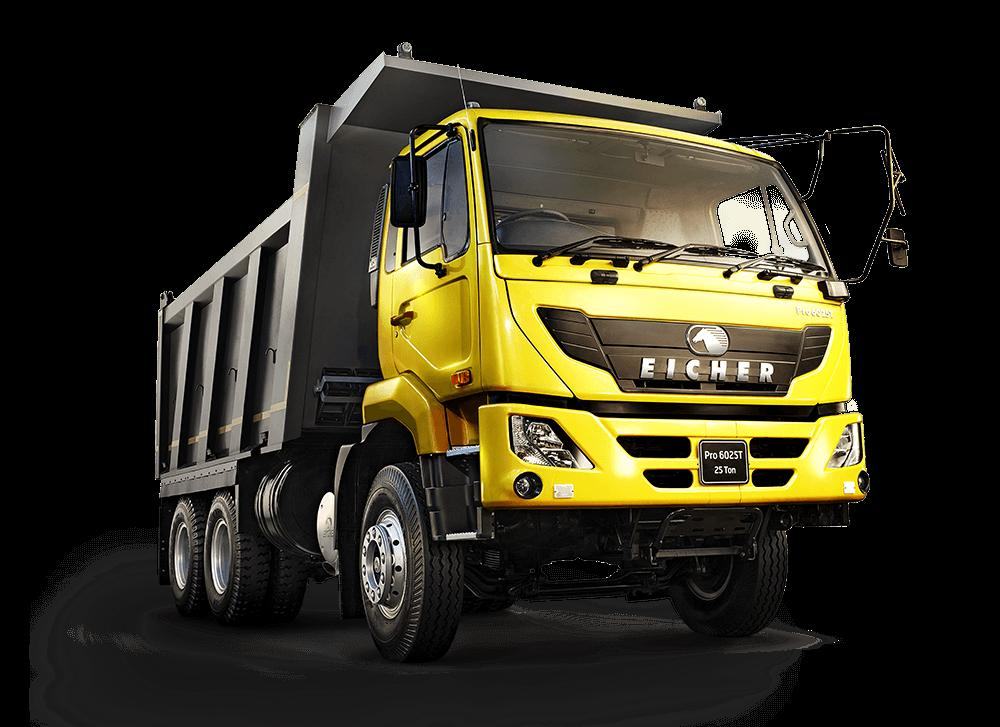truck: (155, 38, 909, 668)
